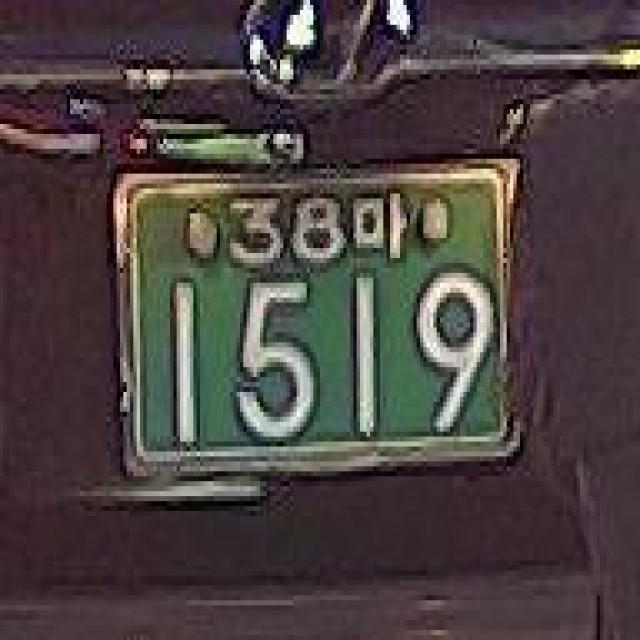illegal_plate: (94, 144, 530, 486)
